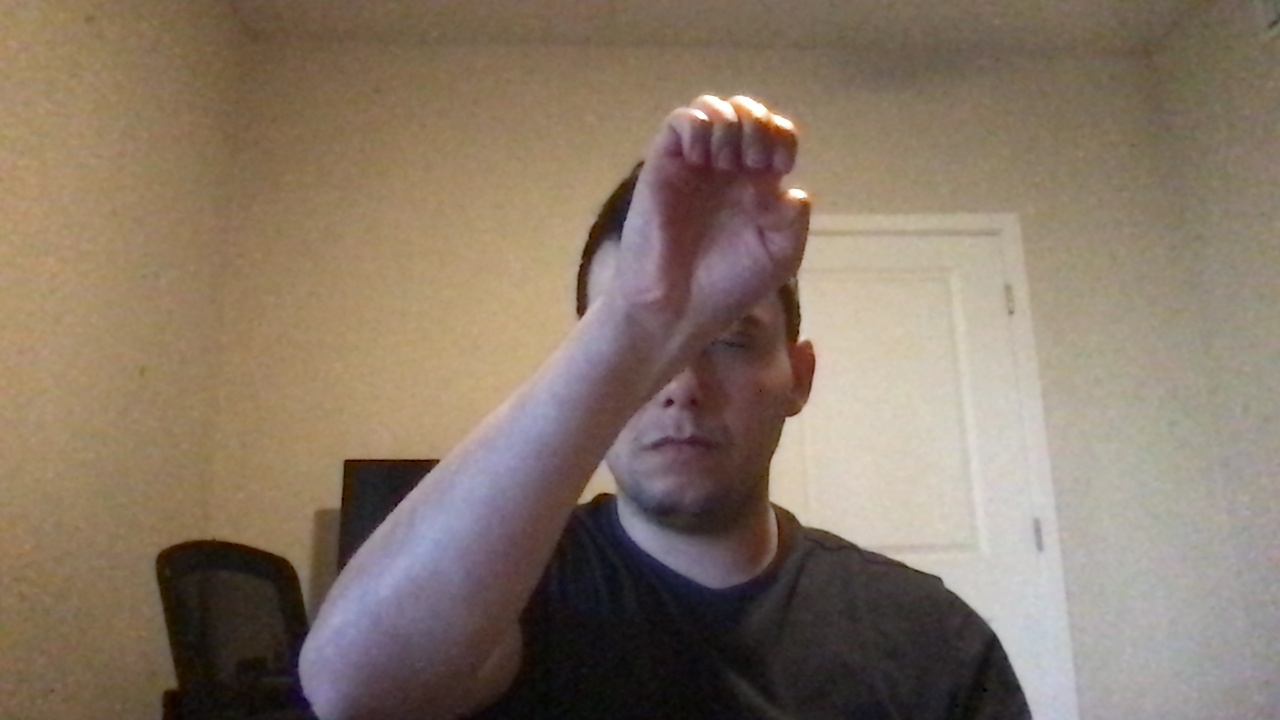e: (613, 89, 834, 335)
